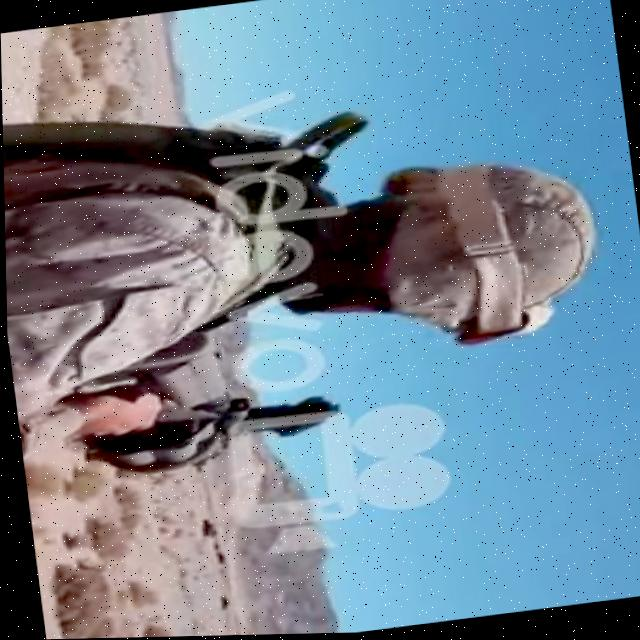rocket: (65, 316, 353, 487)
